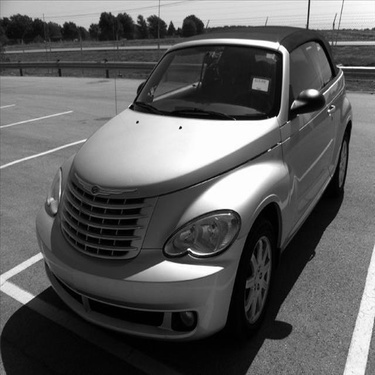car: (32, 15, 356, 348)
